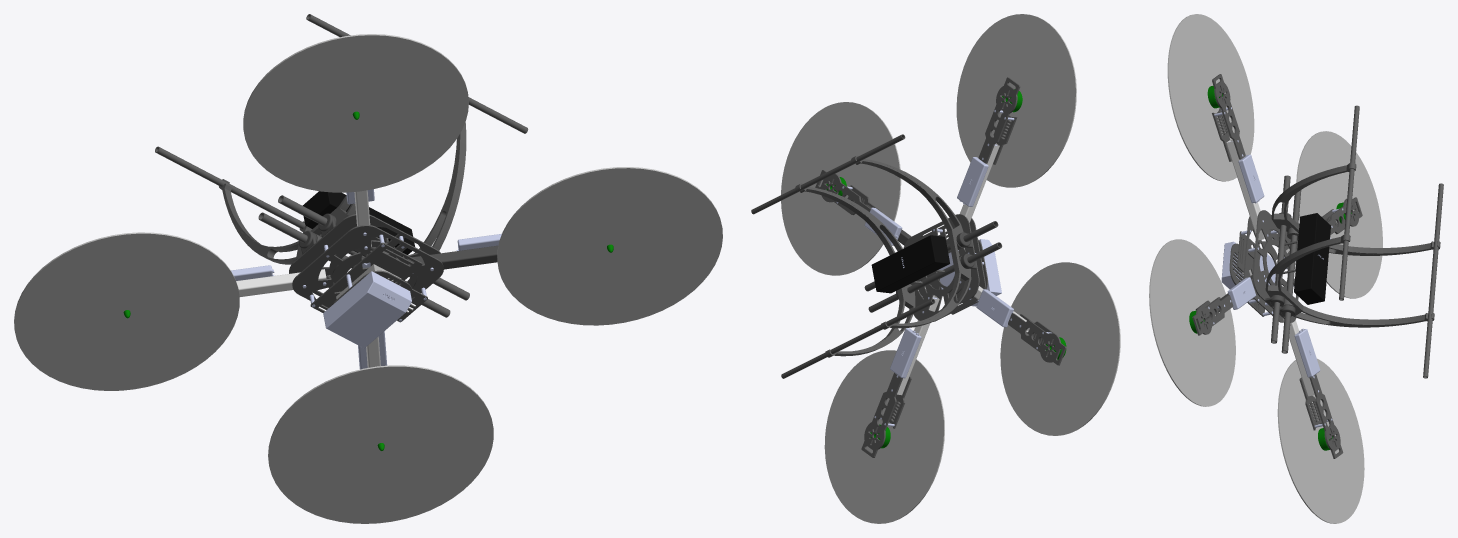
Rendered from albatross_base.dae.
3 renders of one model, left to right at view 1: azimuth 30°, elevation 25°; view 2: azimuth 150°, elevation 25°; view 3: azimuth 270°, elevation 25°, orthographic. The views are drawn at different scales.
Visible parts, largest first — view 1: _3DGeom_848 (×4), _3DGeom_1292, _3DGeom_84, _3DGeom_206 (×2), _3DGeom_733, _3DGeom_152, _3DGeom_282 (×2), _3DGeom_229 (×2), _3DGeom_1046, _3DGeom_234; view 2: _3DGeom_848 (×4), _3DGeom_456 (×4), _3DGeom_206 (×2), _3DGeom_926 (×4), _3DGeom_1046, _3DGeom_229 (×2), _3DGeom_152, _3DGeom_84, _3DGeom_282 (×2), _3DGeom_234, _3DGeom_1292; view 3: _3DGeom_848 (×4), _3DGeom_206 (×2), _3DGeom_456 (×4), _3DGeom_1046, _3DGeom_229 (×2), _3DGeom_926 (×3), _3DGeom_234 (×2), _3DGeom_152, _3DGeom_282 (×2), _3DGeom_222 (×2), _3DGeom_84, _3DGeom_359 (×2) (+3 smaller).
Part boxes in pixels (left/top/right/bottom): _3DGeom_848 (×4): left=14, top=34, right=722, bottom=523; _3DGeom_1292: left=323, top=271, right=411, bottom=348; _3DGeom_84: left=292, top=225, right=443, bottom=307; _3DGeom_206 (×2): left=225, top=122, right=466, bottom=287; _3DGeom_733: left=310, top=242, right=427, bottom=322; _3DGeom_152: left=289, top=214, right=440, bottom=296; _3DGeom_282 (×2): left=236, top=245, right=498, bottom=296; _3DGeom_229 (×2): left=155, top=14, right=528, bottom=258; _3DGeom_1046: left=302, top=191, right=414, bottom=256; _3DGeom_234: left=278, top=195, right=469, bottom=300; _3DGeom_848 (×4): left=781, top=14, right=1120, bottom=523; _3DGeom_456 (×4): left=815, top=77, right=1066, bottom=457; _3DGeom_206 (×2): left=795, top=155, right=971, bottom=356; _3DGeom_926 (×4): left=864, top=157, right=1013, bottom=378; _3DGeom_1046: left=871, top=235, right=949, bottom=293; _3DGeom_229 (×2): left=751, top=134, right=935, bottom=378; _3DGeom_152: left=903, top=214, right=979, bottom=320; _3DGeom_84: left=918, top=218, right=985, bottom=321; _3DGeom_282 (×2): left=897, top=143, right=999, bottom=395; _3DGeom_234: left=868, top=242, right=1002, bottom=312; _3DGeom_1292: left=971, top=239, right=1001, bottom=306; _3DGeom_848 (×4): left=1149, top=14, right=1382, bottom=523; _3DGeom_206 (×2): left=1265, top=162, right=1417, bottom=327; _3DGeom_456 (×4): left=1192, top=74, right=1362, bottom=458; _3DGeom_1046: left=1294, top=213, right=1330, bottom=304; _3DGeom_229 (×2): left=1339, top=105, right=1443, bottom=378; _3DGeom_926 (×3): left=1227, top=154, right=1320, bottom=377; _3DGeom_234 (×2): left=1271, top=175, right=1301, bottom=353; _3DGeom_152: left=1252, top=210, right=1298, bottom=322; _3DGeom_282 (×2): left=1226, top=139, right=1314, bottom=396; _3DGeom_222 (×2): left=1346, top=241, right=1440, bottom=325; _3DGeom_84: left=1243, top=216, right=1288, bottom=322; _3DGeom_359 (×2): left=1212, top=108, right=1321, bottom=430.
Size of the model in its own units: 0.7807 by 0.4667 by 0.7868.
